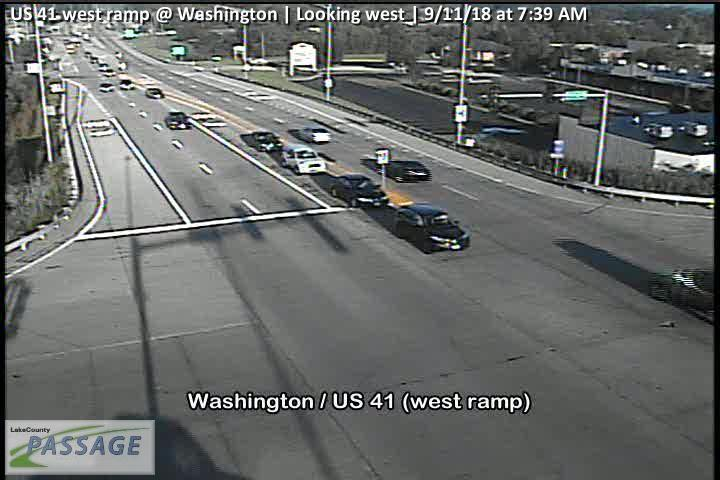SUV: (391, 203, 471, 254), (649, 265, 711, 311), (280, 143, 327, 175), (296, 123, 331, 145), (245, 54, 276, 68)
Sedan: (330, 174, 390, 210), (382, 159, 431, 184), (250, 129, 285, 152), (83, 117, 116, 139), (164, 111, 189, 130), (144, 85, 165, 100), (118, 77, 136, 92), (99, 80, 115, 94)
